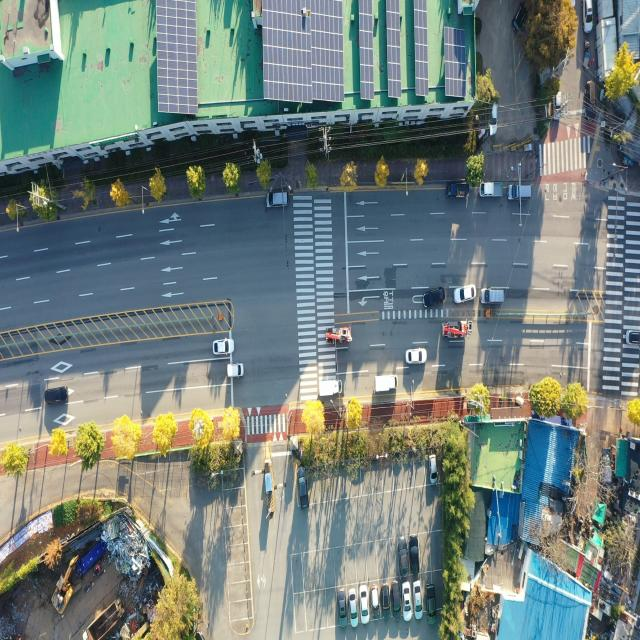car: (297, 466, 310, 509), (506, 181, 530, 201), (425, 584, 437, 624), (44, 387, 69, 405), (482, 288, 506, 305), (398, 537, 408, 576), (454, 285, 475, 303), (423, 288, 444, 306), (267, 190, 289, 207), (411, 533, 420, 573), (514, 5, 526, 33), (339, 591, 348, 627), (490, 99, 499, 135), (382, 583, 391, 618), (213, 340, 232, 356), (407, 349, 427, 364), (585, 0, 594, 33), (415, 583, 423, 620), (391, 582, 399, 618), (402, 583, 410, 619), (349, 589, 357, 625), (370, 584, 378, 617), (624, 332, 640, 348), (360, 586, 367, 622), (228, 362, 244, 377), (429, 454, 436, 484)
medium_truck: (81, 598, 126, 640)
small_truck: (324, 323, 353, 348), (442, 319, 472, 340), (320, 376, 344, 402), (584, 76, 596, 120), (374, 374, 398, 394), (481, 185, 505, 202), (448, 182, 470, 199), (554, 92, 564, 122)
